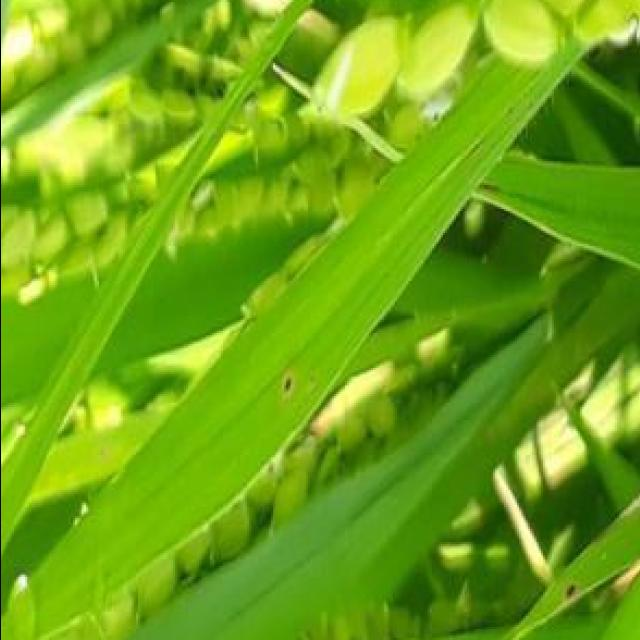Brown_Spot: (274, 372, 296, 404), (555, 579, 579, 607), (498, 104, 514, 120)
